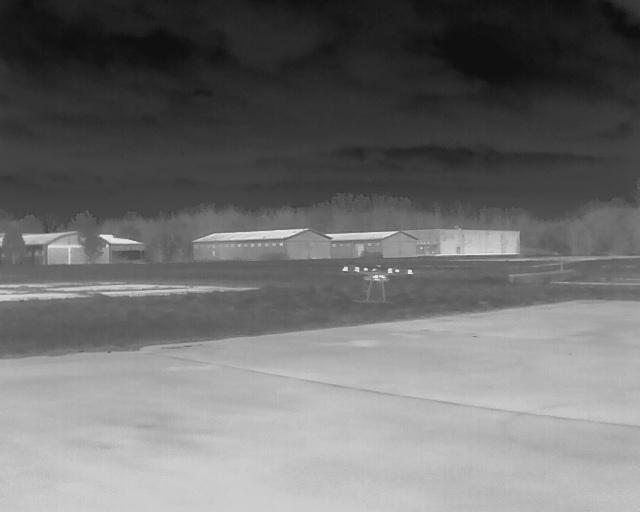drone: (329, 265, 421, 310)
